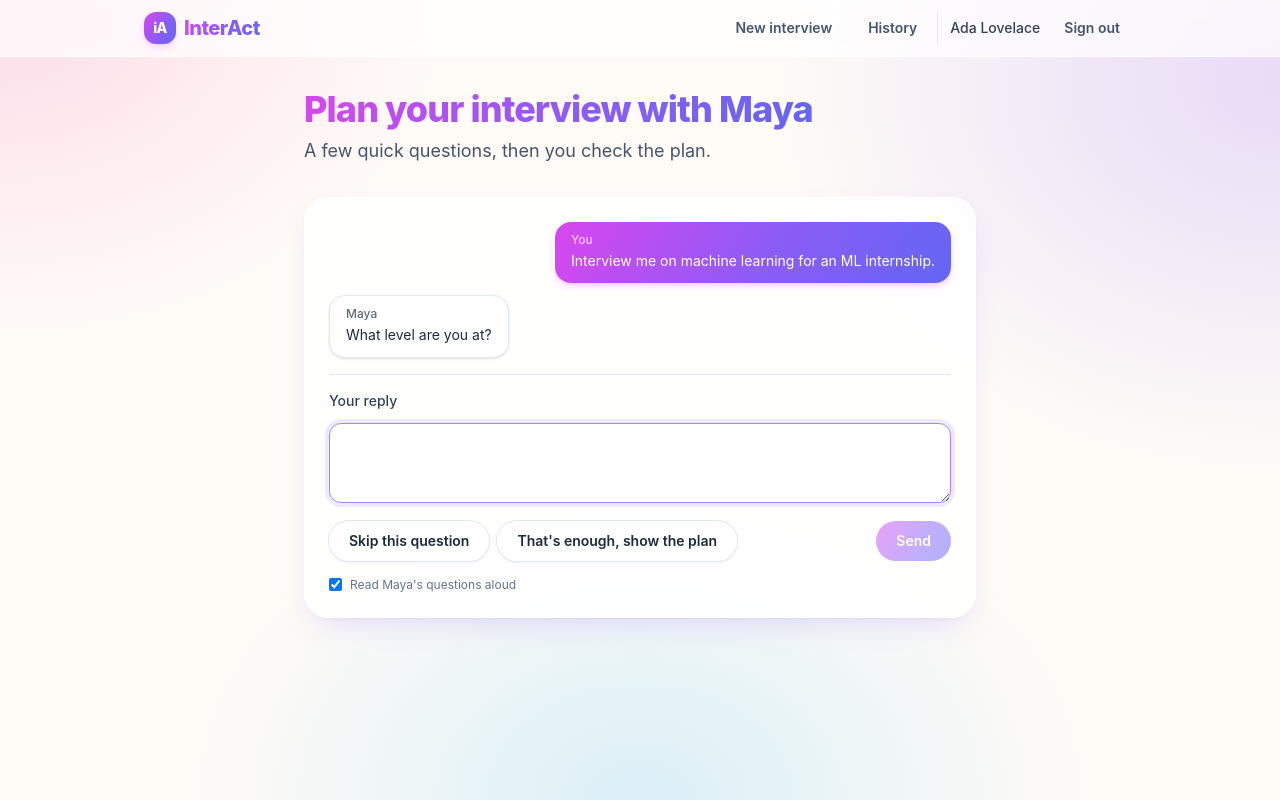
the clarification chat › can stop the questions and go to the plan
Click the button "That's enough, show the plan" at {"x": 617, "y": 540}, box [497,520,737,560]
(page scrolled)
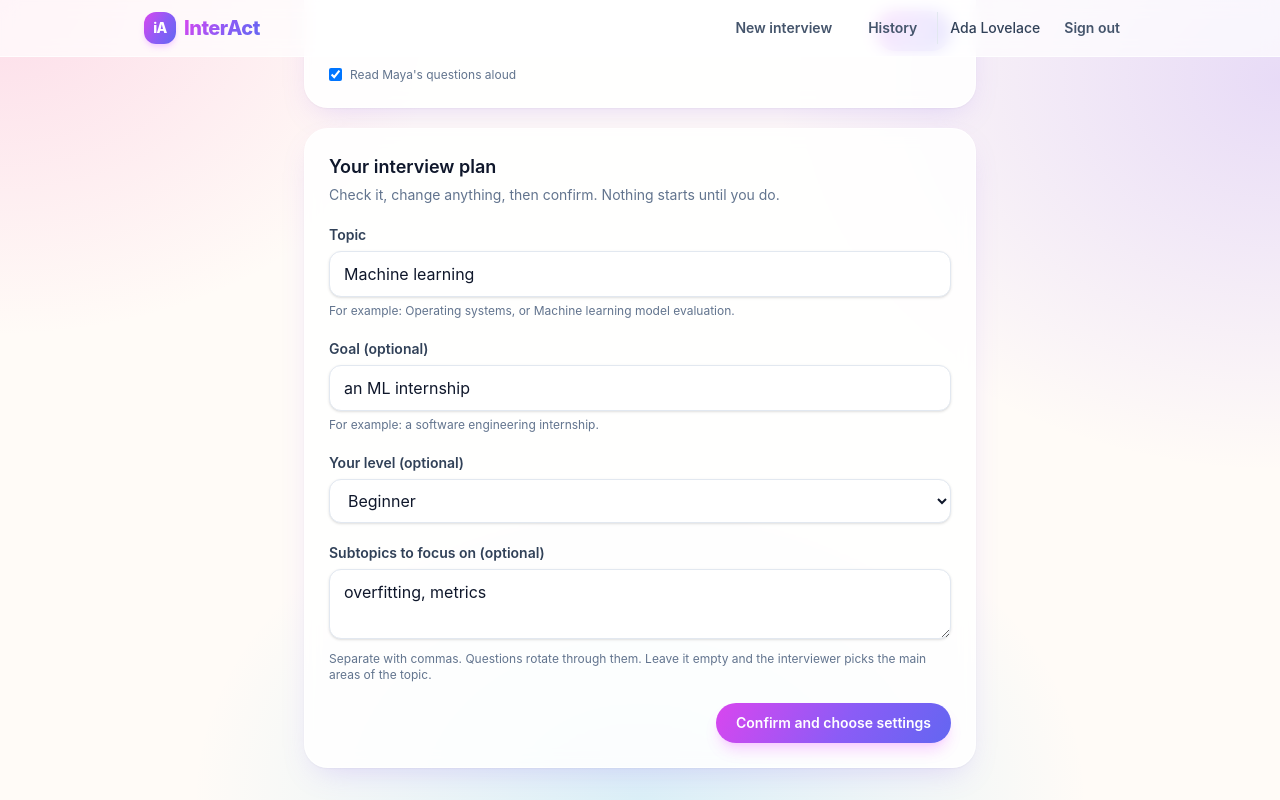
Check: the form "Your interview plan" is shown, box [329,153,951,743]
